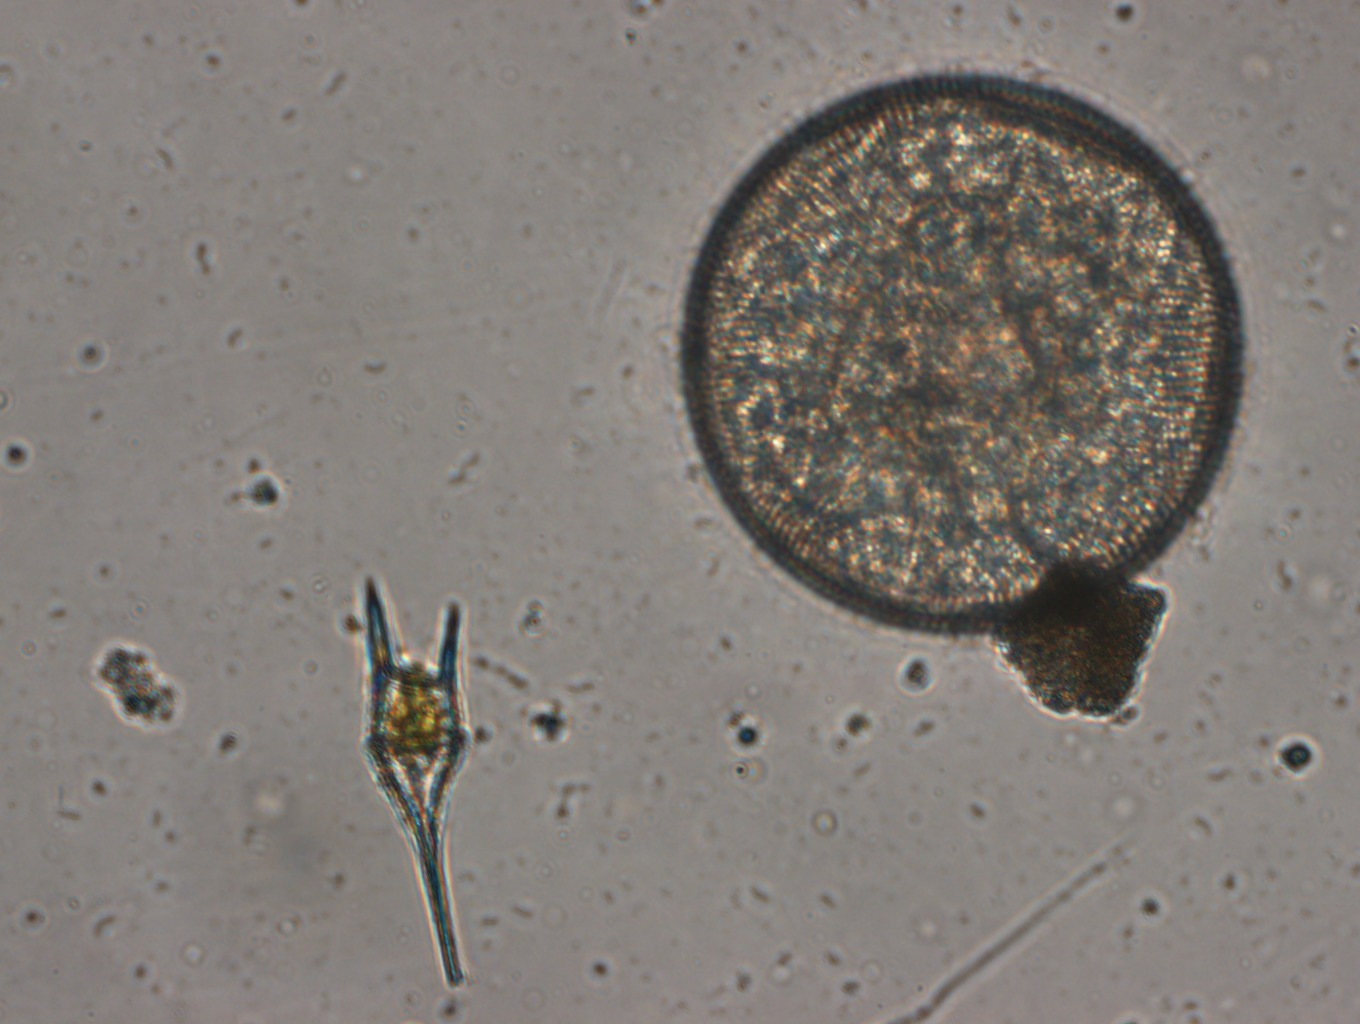ceratium furca: (352, 565, 485, 998)
coscinodiscus: (668, 63, 1246, 640)
